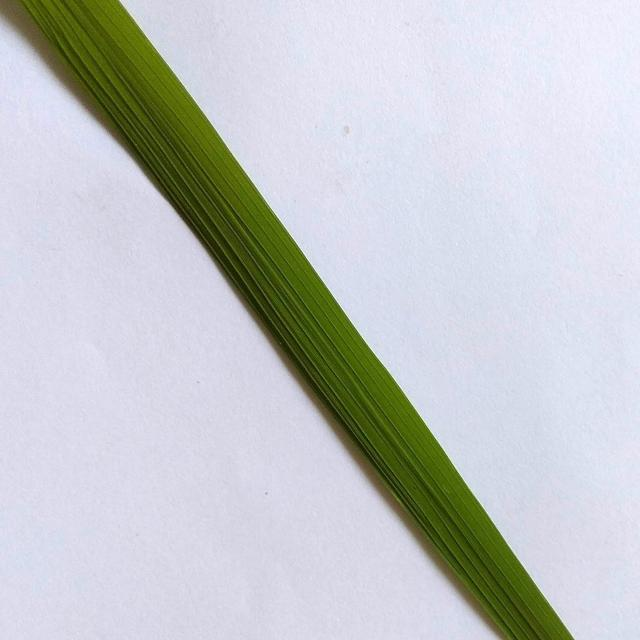Rice_Healthy: (23, 0, 573, 640)
